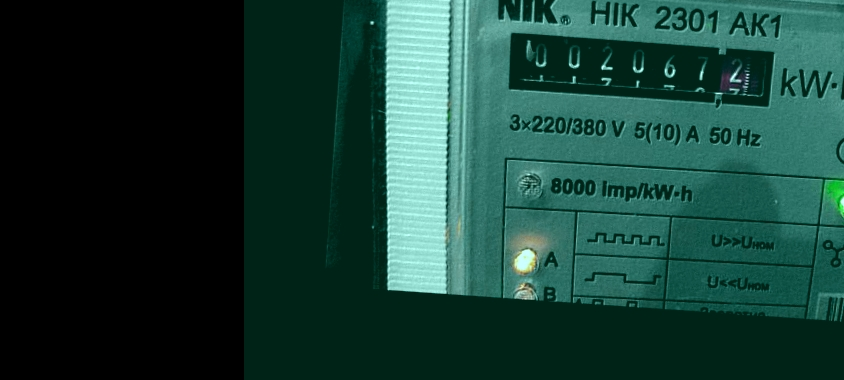0: (532, 40, 552, 70), (566, 41, 585, 71), (629, 45, 648, 74)
2: (727, 55, 747, 85), (599, 43, 618, 73)
6: (661, 50, 681, 80)
7: (694, 53, 712, 84)
screen: (493, 19, 790, 121)
